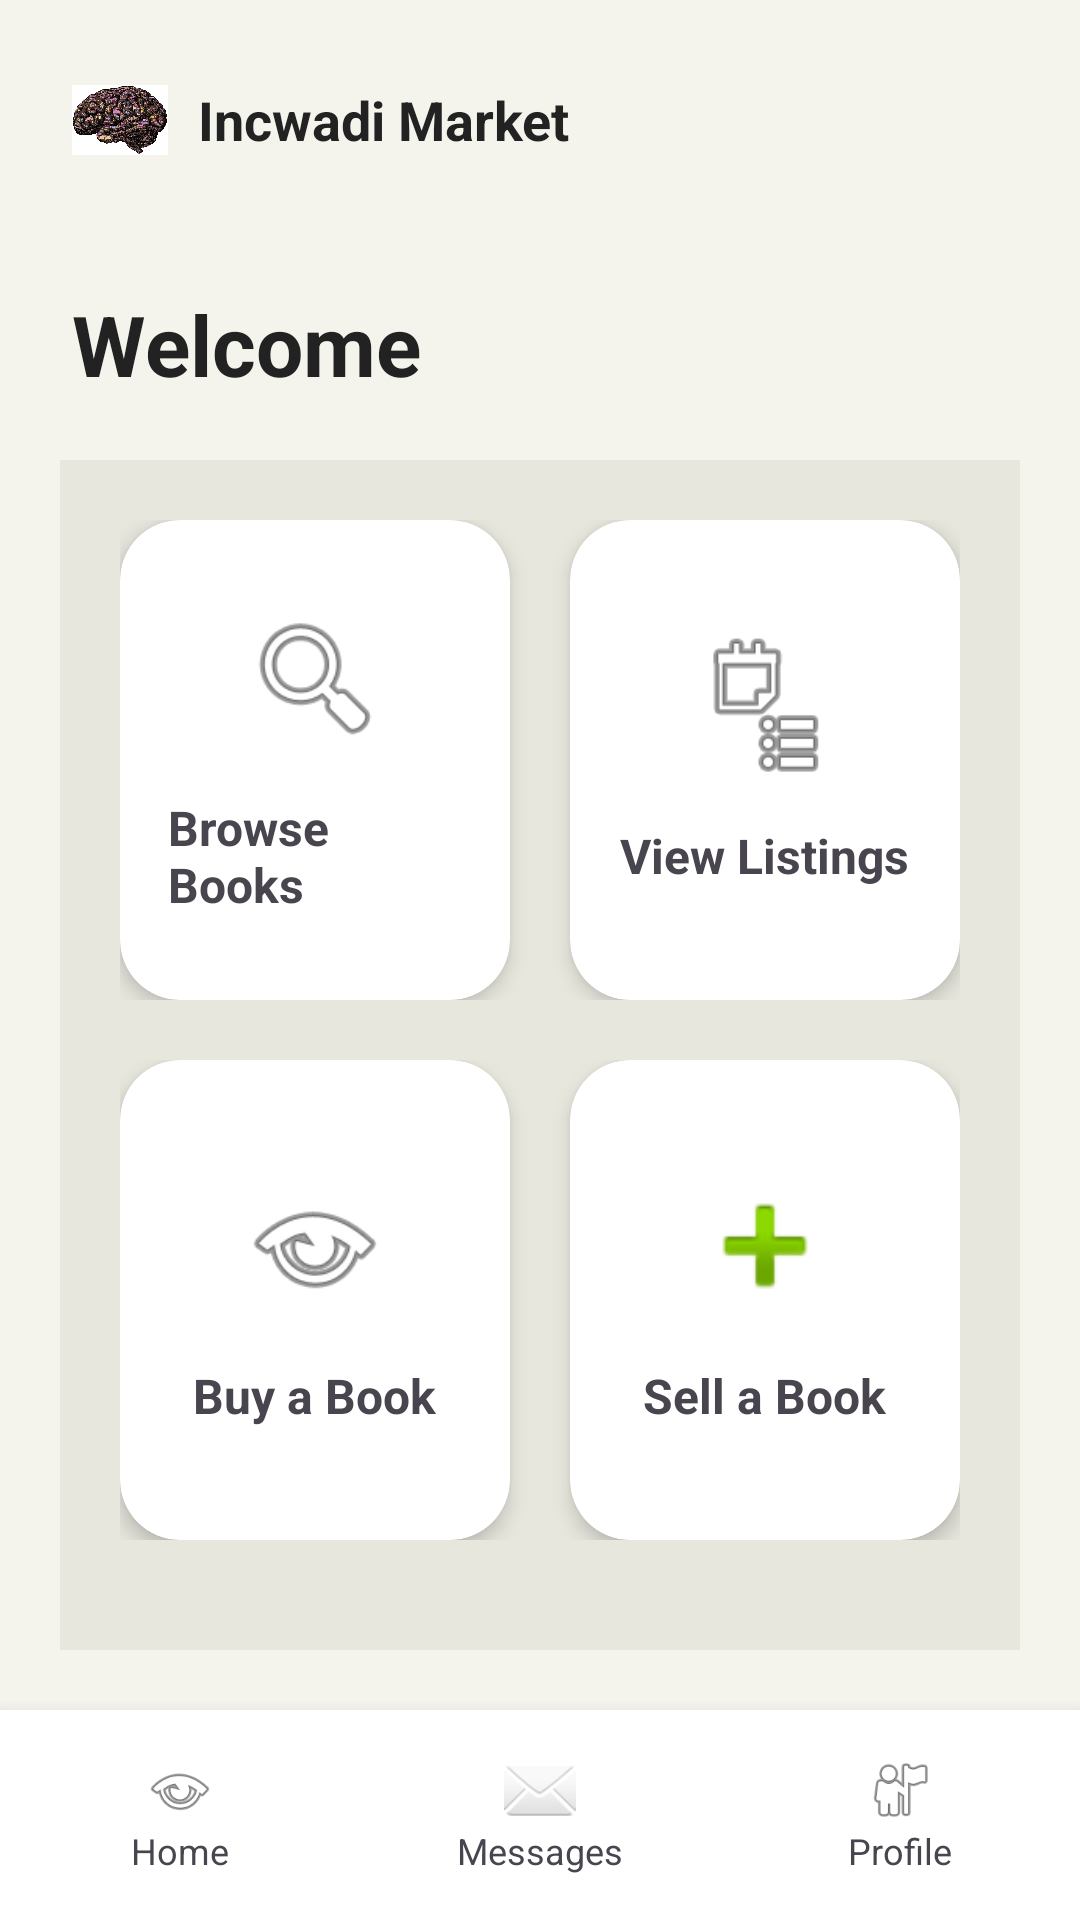

Named icons in this screenshot (1080*1920) and their centers, point (x, y):
add: point (765, 1246)
agenda: point (766, 705)
email: point (540, 1791)
myplaces: point (901, 1790)
search: point (315, 679)
view: point (315, 1249), point (180, 1791)
